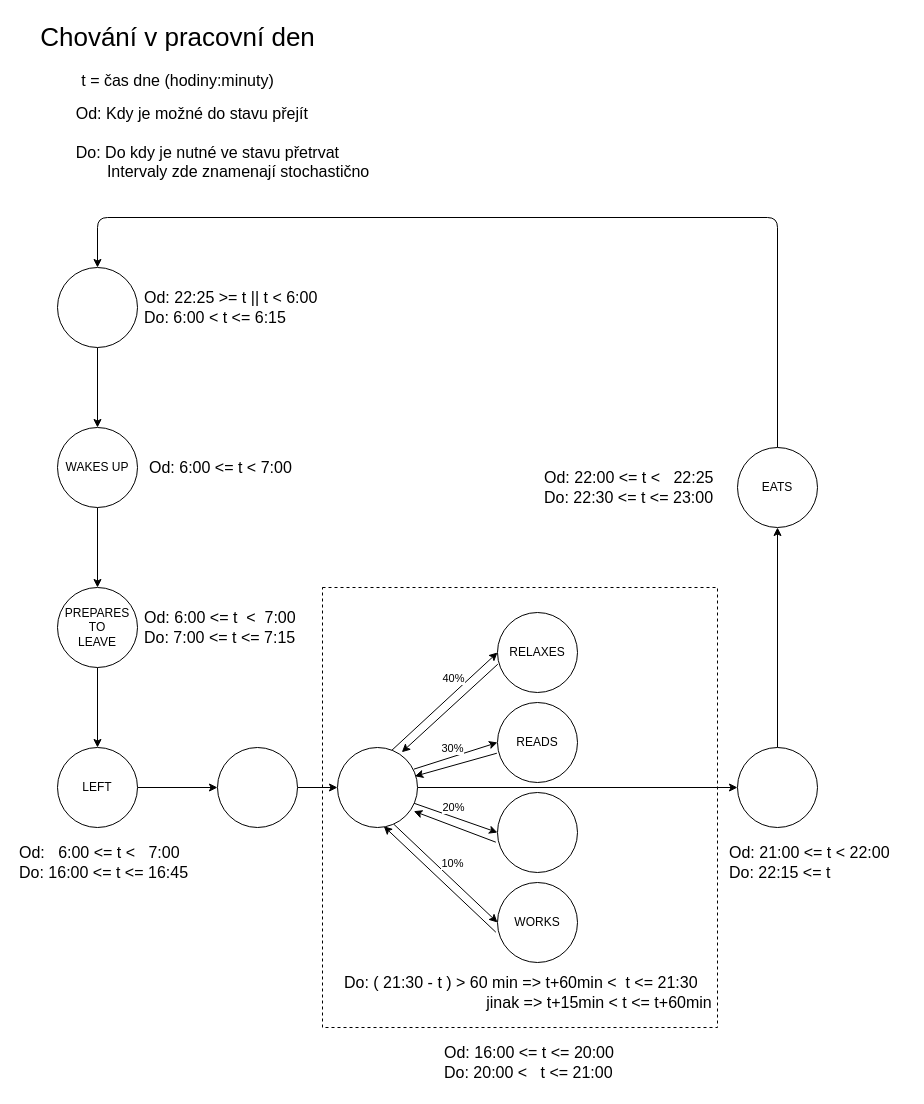
Some shapes in this 924 by 1104 pixel diagram are drawn without their labels. The shapes that lost their labels are listed below. From the top down, each one's centre as x and y in pixels, then its label:
(97,307): SLEEPS
(257,787): ARRIVES
(777,787): PREPARES FOOD
(537,832): DOES HOBBY
